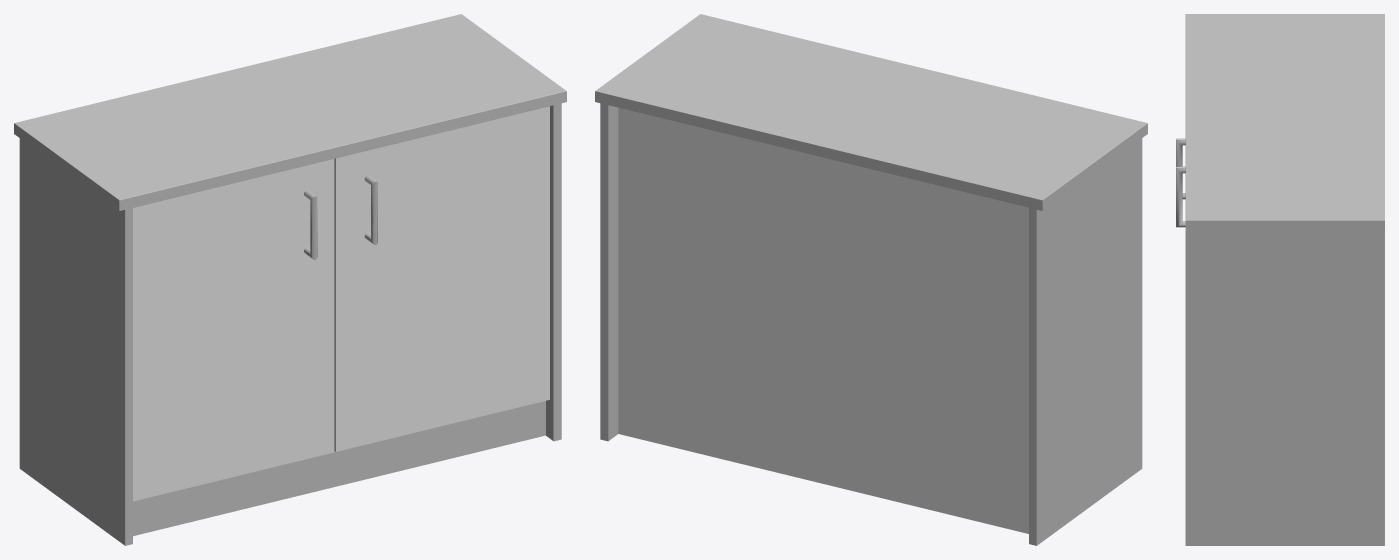
Rendered from Cabinet.FBX.
3 views of the same model, side by side, from view 1: azimuth 30°, elevation 25°; view 2: azimuth 150°, elevation 25°; view 3: azimuth 270°, elevation 25° (orthographic). The views are drawn at different scales.
Visible parts, largest first — view 1: cabinet; view 2: cabinet; view 3: cabinet.
Part boxes in pixels (box(x1,y1,x2,y2)): cabinet: box(14, 14, 566, 545); cabinet: box(595, 14, 1147, 545); cabinet: box(1176, 14, 1384, 545).
Bounding box in the file's own units: 105 × 77.57 × 44.75.
